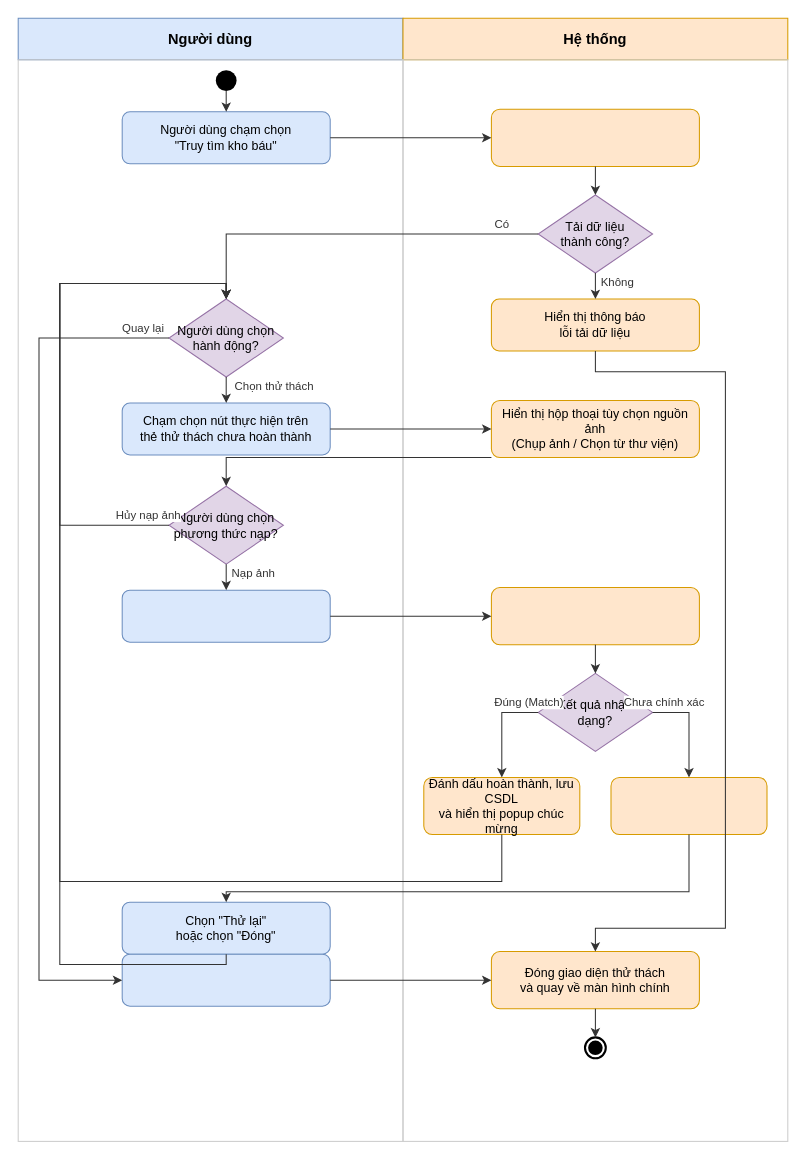
Some shapes in this 806 by 1160 pixel diagram are drawn without their labels. The box of each missing label's shape, as (x1, y1, x2, y2) in pixels:
Chọn "Quay lại": (121, 953, 330, 1006)
Hiển thị thông báo chưa chính xác kèm gợi ý thử lại: (610, 776, 767, 835)
Nạp ảnh và thực hiện nhận dạng vật thể bằng mô hình AI: (490, 587, 699, 645)
Thực hiện chụp ảnh thực tế hoặc chọn ảnh từ thư viện: (121, 589, 330, 642)
Tải dữ liệu từ CSDL và hiển thị danh sách thử thách: (490, 108, 699, 166)
